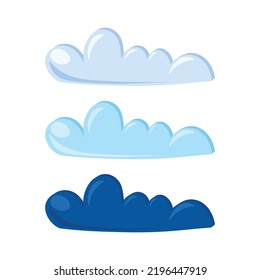cloud: (44, 99, 216, 159), (45, 172, 217, 232), (43, 26, 217, 85)
